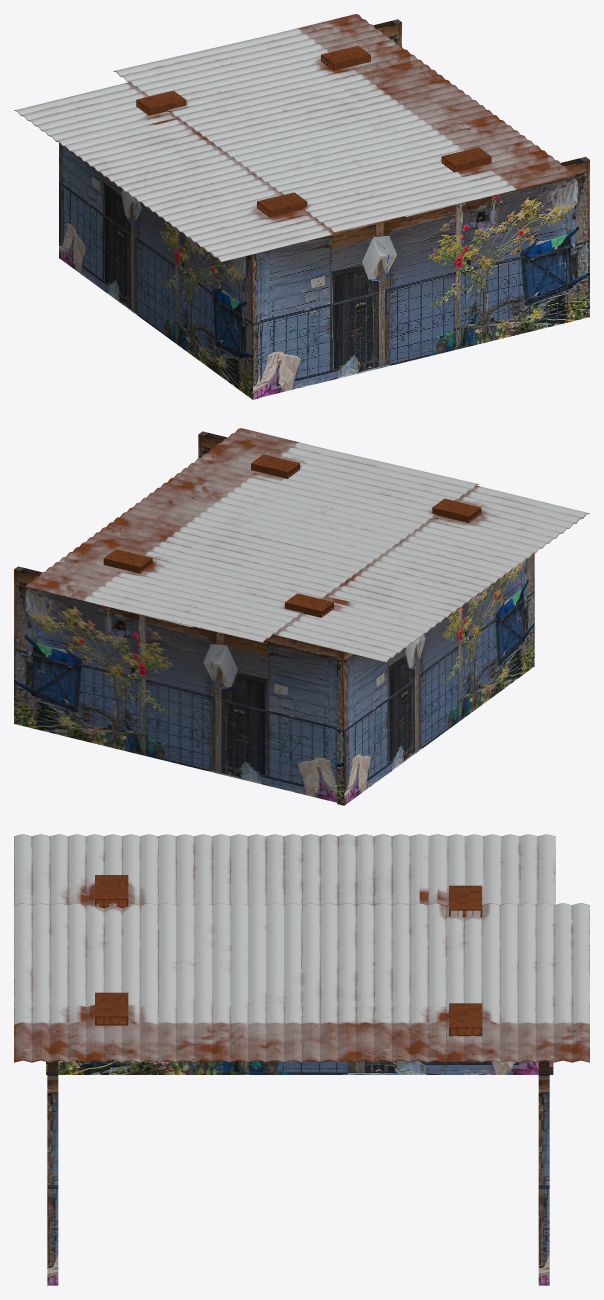
File: casa_izquierda_19B.fbx
3 renders of one model, top to bottom at view 1: azimuth 30°, elevation 25°; view 2: azimuth 150°, elevation 25°; view 3: azimuth 270°, elevation 25°, orthographic. The views are drawn at different scales.
Parts seen in each view (by area): view 1: Techo 18A.002, casa_izquierda_19B.003, casa_izquierda_19B.001; view 2: Techo 18A.002, casa_izquierda_19B.002, casa_izquierda_19B.001; view 3: Techo 18A.002, casa_izquierda_19B.001, casa_izquierda_19B.002, casa_izquierda_19B.003.
Boxes of the visible parts, box(x1,y1,x2,y2) form: Techo 18A.002: box(14, 14, 575, 262); casa_izquierda_19B.003: box(260, 157, 589, 397); casa_izquierda_19B.001: box(59, 142, 259, 399); Techo 18A.002: box(25, 428, 589, 662); casa_izquierda_19B.002: box(14, 566, 336, 802); casa_izquierda_19B.001: box(337, 553, 534, 805); Techo 18A.002: box(14, 834, 589, 1062); casa_izquierda_19B.001: box(46, 1060, 553, 1074); casa_izquierda_19B.002: box(538, 1060, 549, 1285); casa_izquierda_19B.003: box(47, 1061, 58, 1285).
Size of the model in its own units: 673 by 281 by 673.
